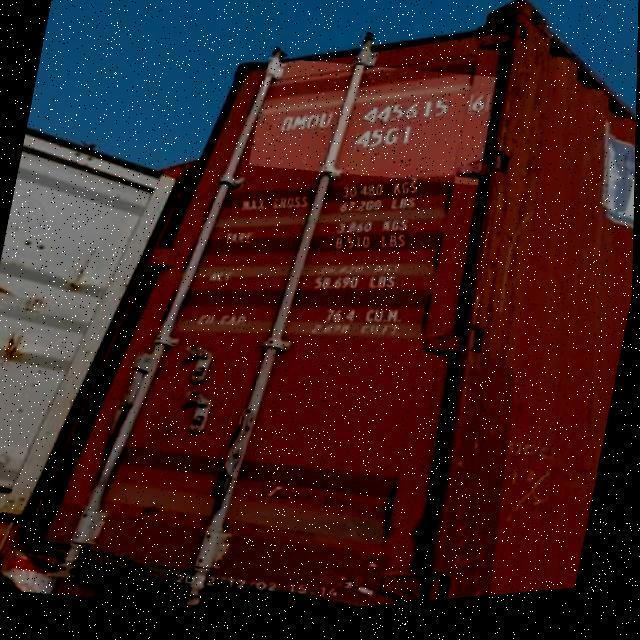container_number_h: (247, 46, 500, 213)
